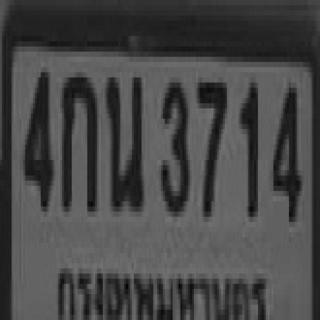A01: (60, 67, 95, 206)
A25: (105, 70, 142, 209)
N01: (238, 77, 256, 212)
N03: (159, 77, 188, 212)
N04: (22, 67, 50, 206), (271, 83, 299, 217)
N07: (196, 77, 225, 212)
P04: (55, 260, 272, 320)
